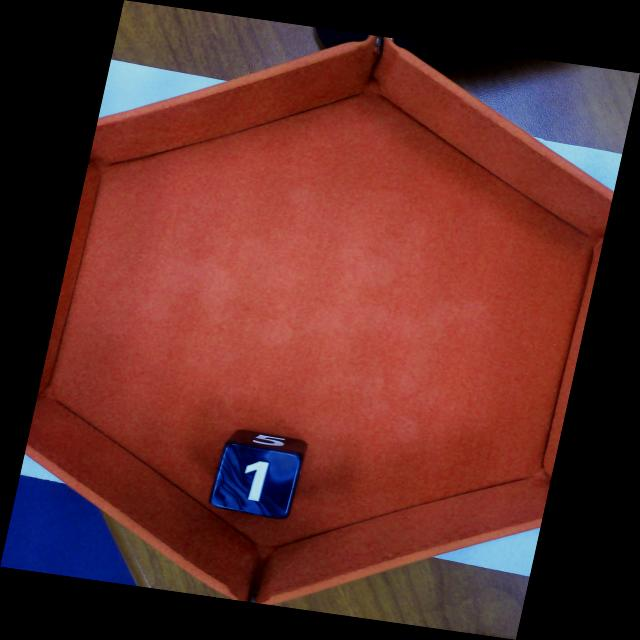dice: (209, 442, 303, 519)
